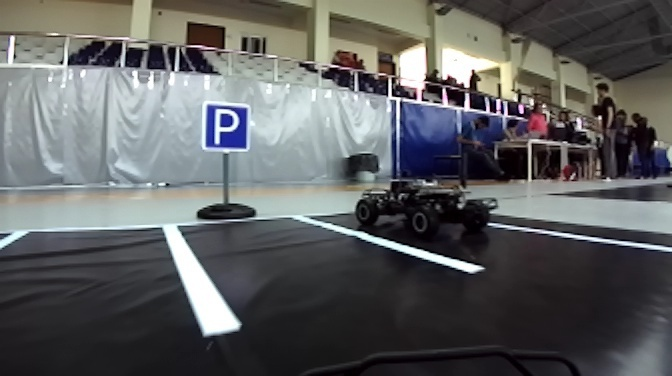park: (203, 100, 252, 154)
